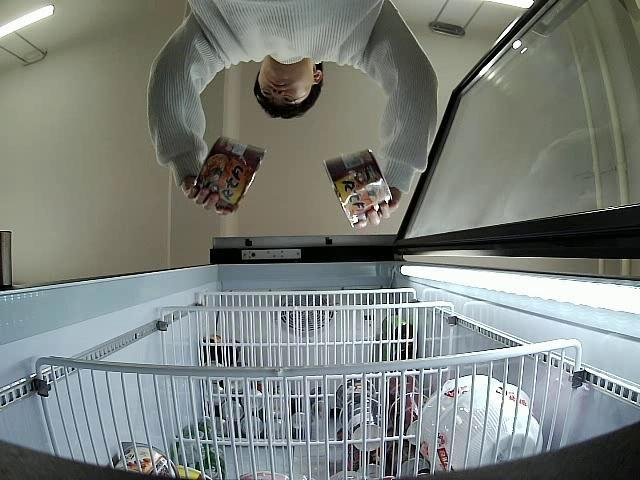05_nuguri_L: (195, 134, 268, 212), (322, 148, 393, 224)
